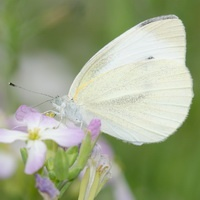insect: (54, 15, 192, 144)
